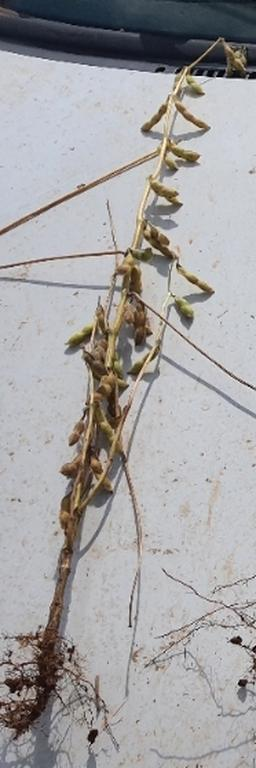pod: (177, 264, 217, 295), (175, 99, 210, 132), (92, 457, 115, 494), (63, 322, 94, 349), (141, 101, 165, 135), (224, 43, 247, 77), (170, 142, 201, 161), (185, 74, 207, 97), (68, 421, 85, 448), (175, 297, 196, 318), (129, 246, 152, 263), (164, 155, 178, 171)
soy: (7, 35, 248, 744)
